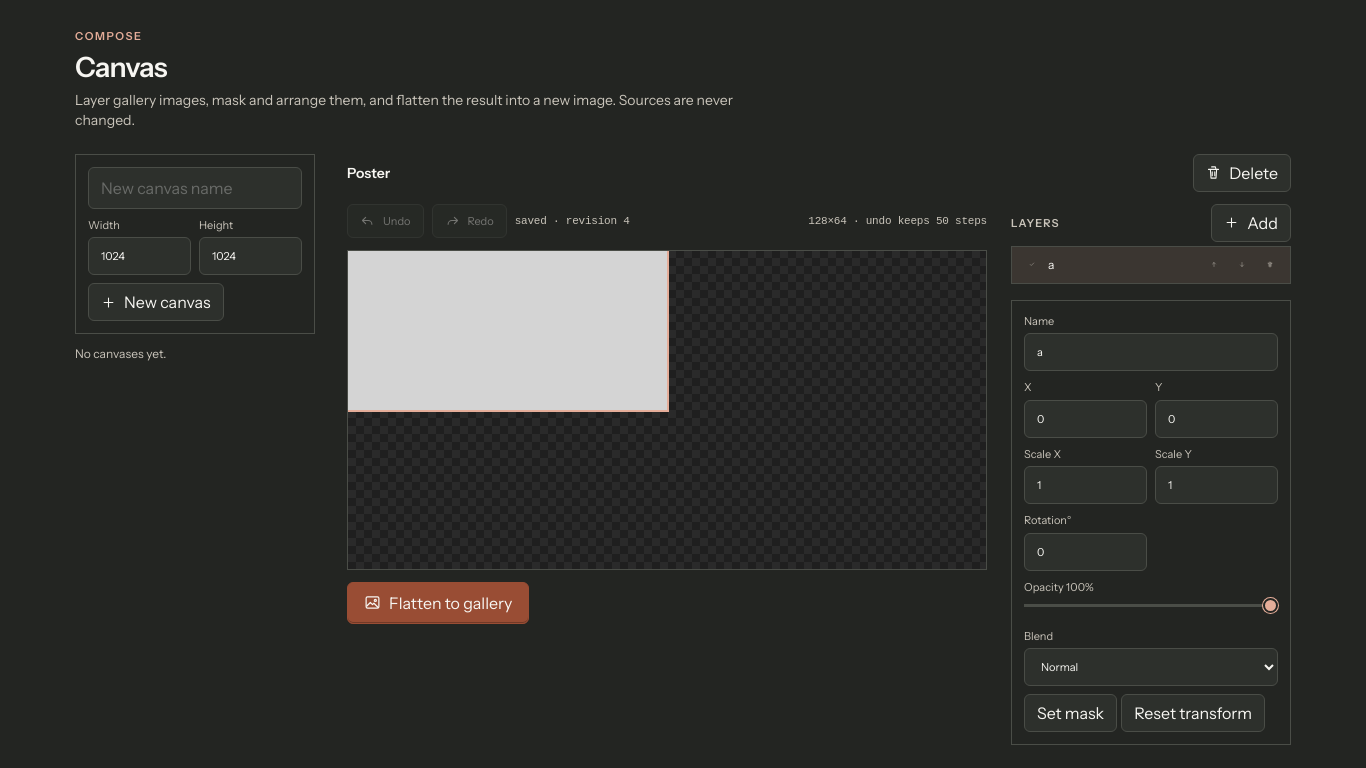
Test: Canvas › a conflicting save is reported and never retried over the other edit
The width and height of the screenshot is (1366, 768).
Expected: the element with test id "canvas-inspector" is shown, [1011,300,1291,745]
Replace the text in the number field labelled "X" with "12". click: x=1086, y=419
box: [1024,400,1147,438]
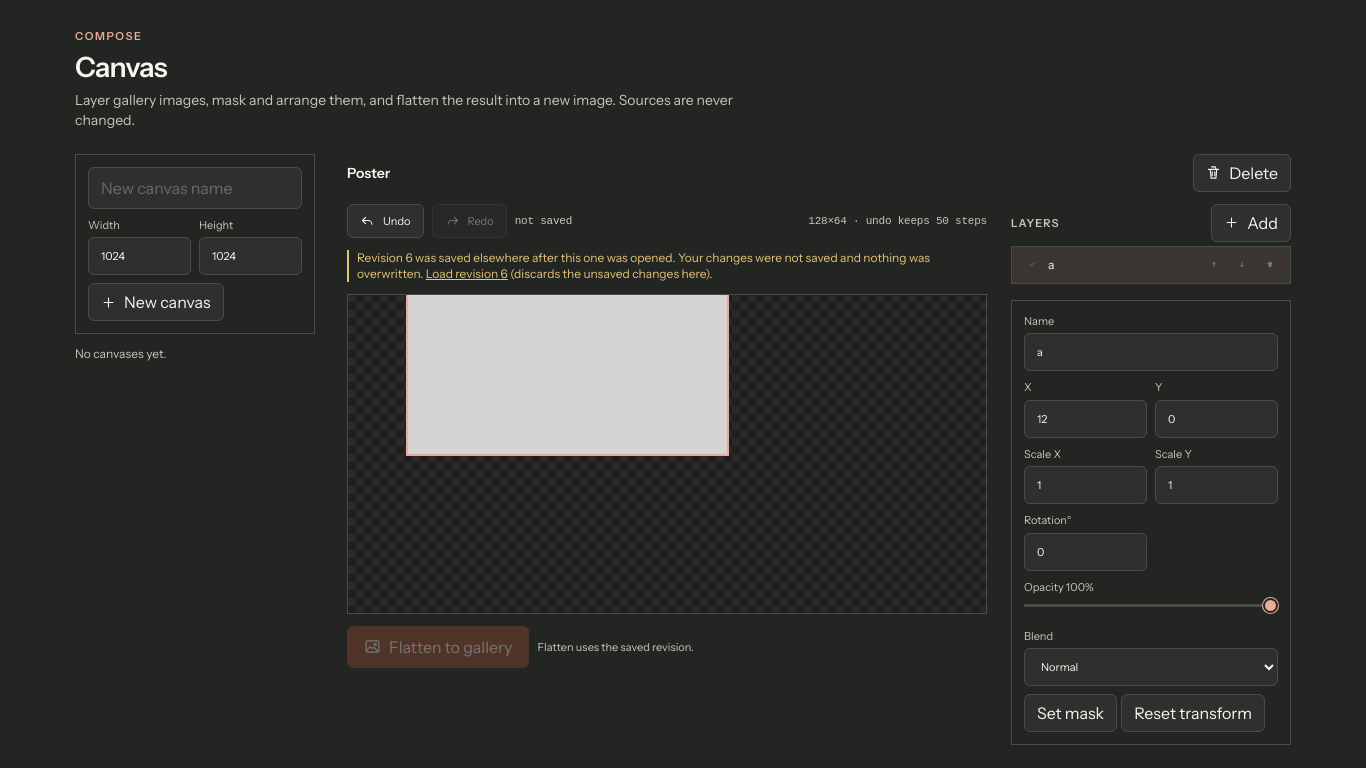
Now the element with test id "canvas-conflict" shows "Revision 6", box [347,250,987,282]
